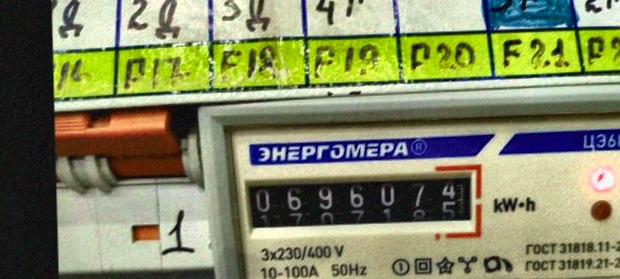0: (252, 186, 271, 212), (378, 180, 395, 207)
4: (440, 178, 455, 199)
5: (441, 200, 455, 219)
6: (283, 185, 302, 210), (347, 181, 364, 208)
7: (409, 180, 426, 207)
9: (315, 184, 333, 210)
screen: (238, 161, 486, 244)
